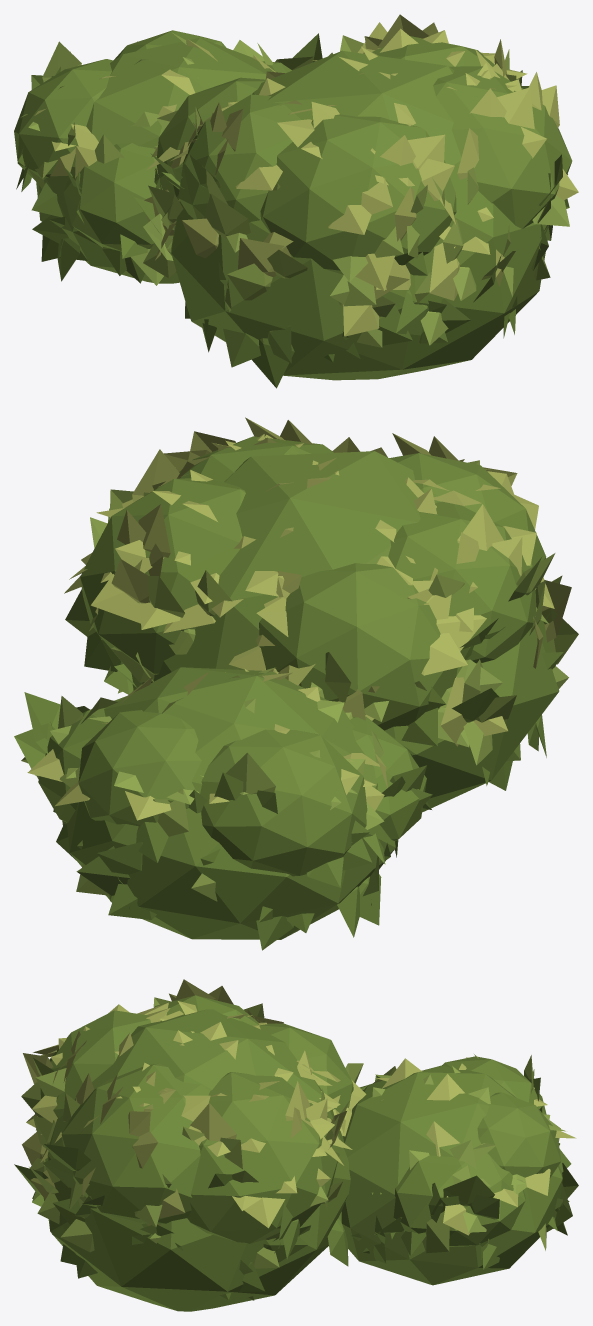
3 renders of one model, top to bottom at view 1: azimuth 30°, elevation 25°; view 2: azimuth 150°, elevation 25°; view 3: azimuth 270°, elevation 25°, orthographic. The views are drawn at different scales.
Parts seen in each view (by area): view 1: crown; view 2: crown; view 3: crown.
Boxes of the visible parts, bbox=[...] form: crown: bbox=[14, 14, 578, 388]; crown: bbox=[14, 417, 578, 950]; crown: bbox=[14, 979, 578, 1311].
Bounding box in the file's own units: 1.43 × 0.9805 × 2.03.
